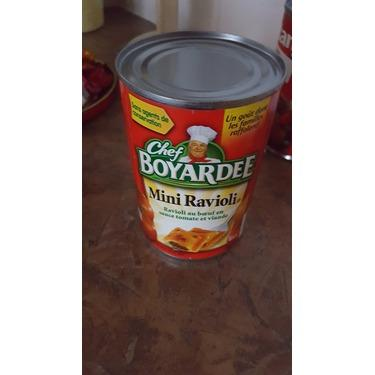metal: (115, 31, 287, 260)
